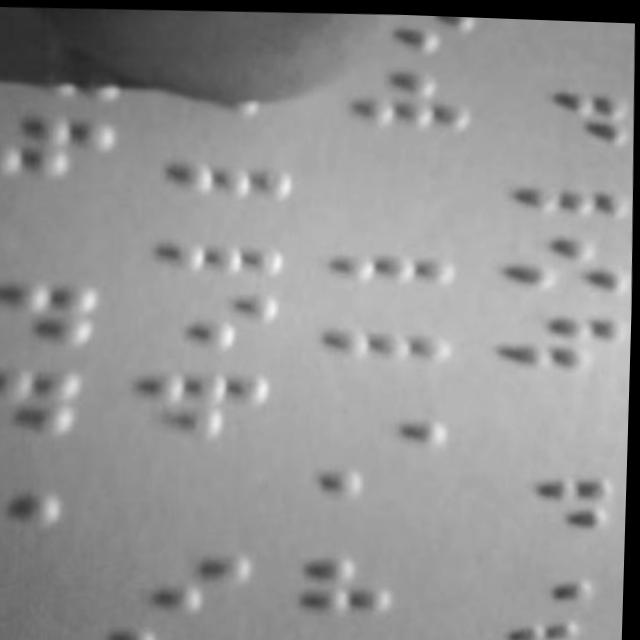braiile: (113, 535, 262, 616), (131, 367, 280, 446), (158, 196, 293, 280), (162, 117, 297, 201), (345, 51, 484, 131), (335, 204, 459, 288), (501, 303, 631, 381), (328, 286, 456, 364), (488, 457, 620, 532), (146, 284, 283, 356), (506, 224, 634, 300), (0, 106, 116, 189), (333, 374, 457, 450), (483, 532, 606, 604), (511, 146, 631, 217), (0, 274, 110, 349), (511, 79, 635, 145), (0, 363, 98, 446), (0, 455, 76, 528), (458, 609, 592, 640)
